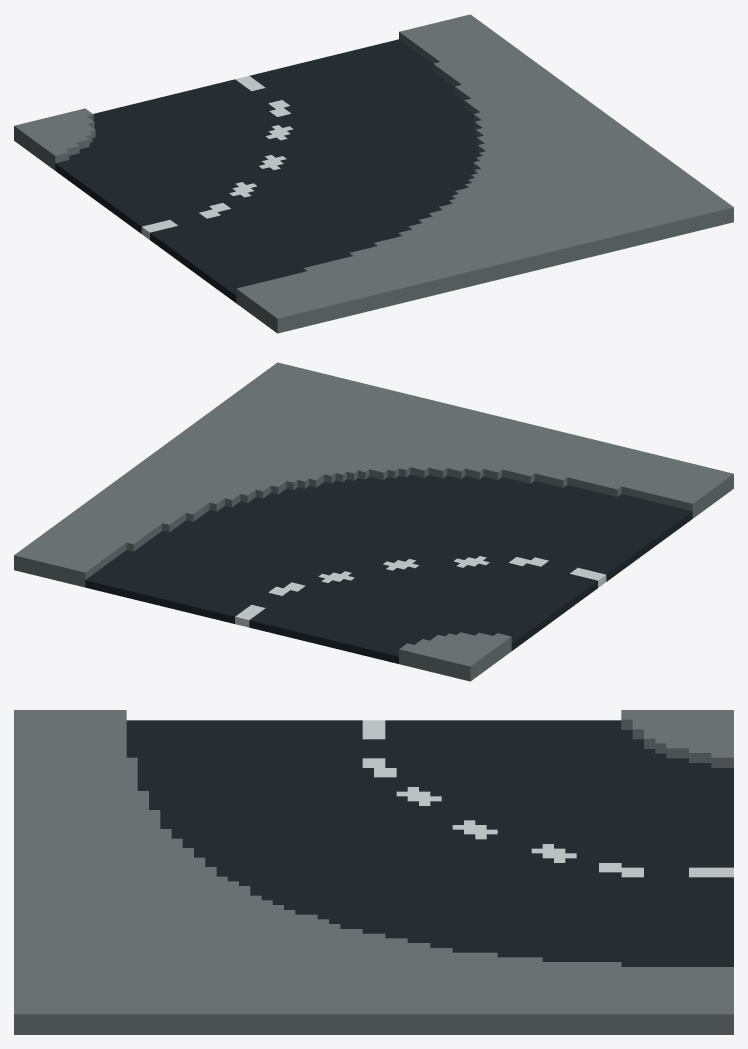
Rendered from RoadTurn270.obj.
3 renders of one model, top to bottom at view 1: azimuth 30°, elevation 25°; view 2: azimuth 150°, elevation 25°; view 3: azimuth 270°, elevation 25°, orthographic. The views are drawn at different scales.
Bounding box in the file's own units: 6.4 × 0.2 × 6.4.
Materials: 1 (1 with a texture image).
